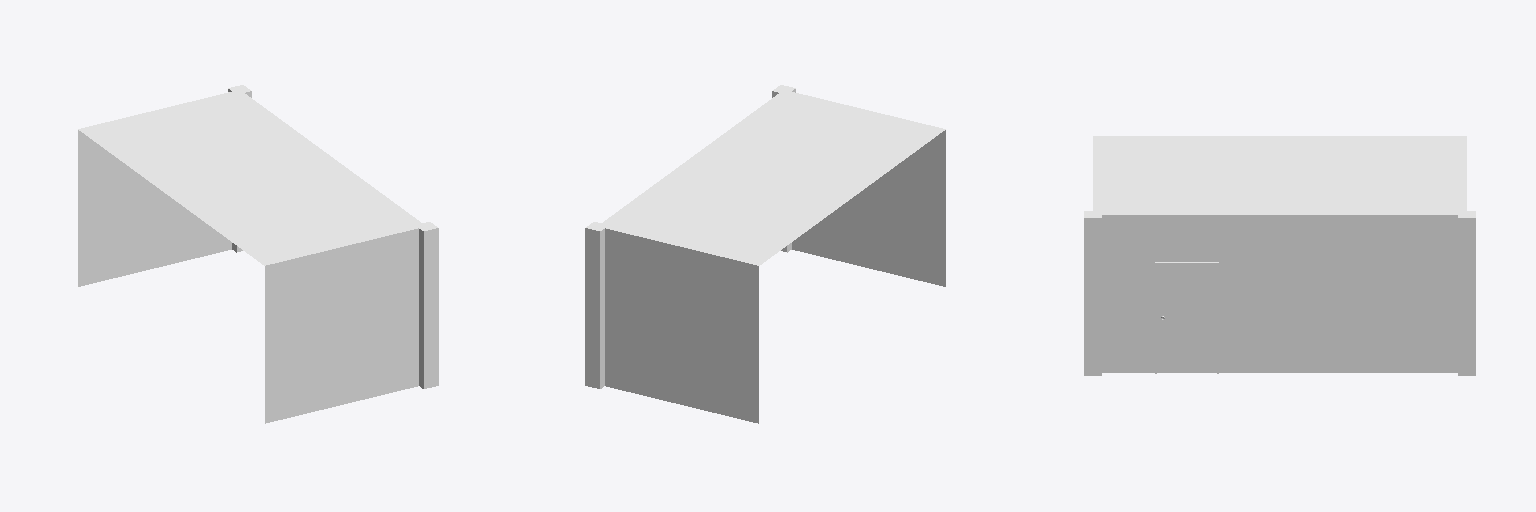
The model's file is Block.obj.
3 renders of one model, left to right at view 1: azimuth 30°, elevation 25°; view 2: azimuth 150°, elevation 25°; view 3: azimuth 270°, elevation 25°, orthographic.
Parts seen in each view (by area): view 1: pCube25; view 2: pCube25; view 3: pCube25.
Boxes of the visible parts, <box> form: pCube25: <box>78,85,438,423</box>; pCube25: <box>585,85,945,423</box>; pCube25: <box>1084,136,1475,375</box>.
Bounding box in the file's own units: 78.7 × 70.08 × 157.